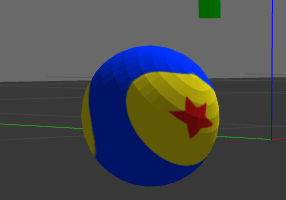toy story ball: (81, 45, 220, 187)
